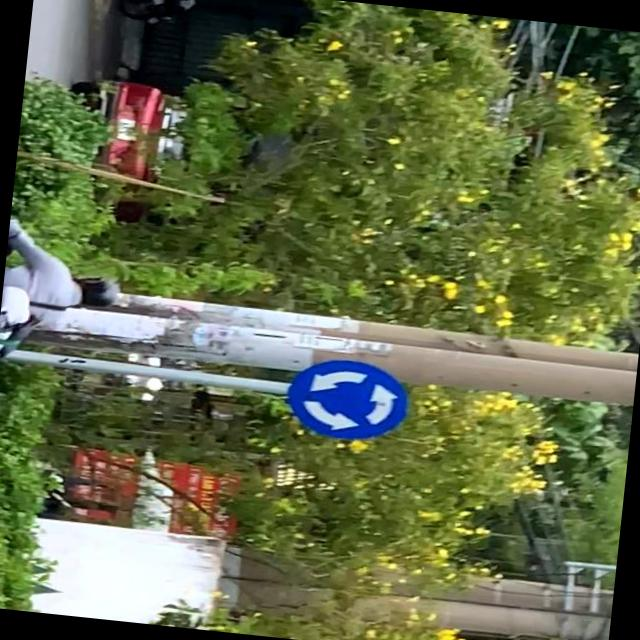R-303: (283, 357, 412, 442)
